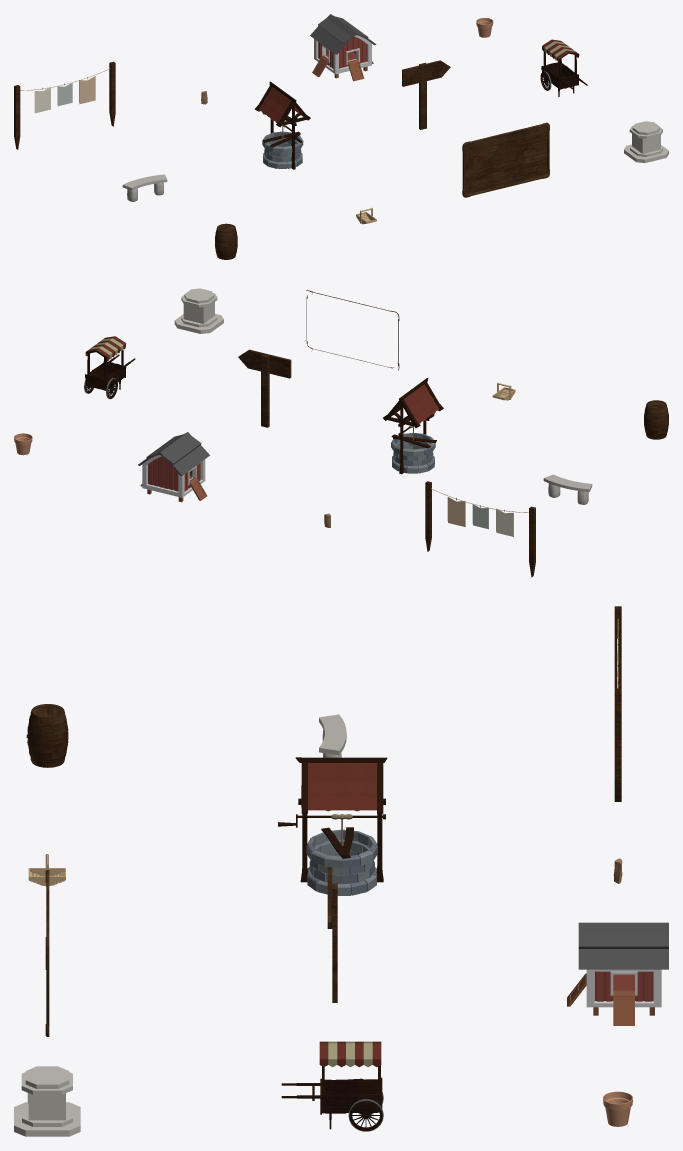
File: london_district_props.glb
3 views of the same model, one above another, from view 1: azimuth 30°, elevation 25°; view 2: azimuth 150°, elevation 25°; view 3: azimuth 270°, elevation 25° (orthographic). The views are drawn at different scales.
Visible parts, largest first — view 1: noticeboard, ChickenCoop_Cube.015, Well, Cart, statue_base, finger_post_sign_01, wood_barrel, curved_stone_bench, left timber post, right timber post, hanging linen 3; view 2: ChickenCoop_Cube.015, Well, Cart, statue_base, finger_post_sign_01, wood_barrel, curved_stone_bench, hanging linen 3, right timber post, left timber post; view 3: Well, ChickenCoop_Cube.015, Cart, statue_base, wood_barrel, finger_post_sign_01, curved_stone_bench, right timber post, flower_pot.
Part boxes in pixels (bbox=[...]): noticeboard: bbox=[462, 122, 549, 197]; ChickenCoop_Cube.015: bbox=[310, 14, 376, 81]; Well: bbox=[255, 81, 310, 169]; Cart: bbox=[540, 39, 587, 96]; statue_base: bbox=[624, 121, 668, 162]; finger_post_sign_01: bbox=[402, 60, 450, 129]; wood_barrel: bbox=[215, 223, 237, 259]; curved_stone_bench: bbox=[122, 174, 167, 201]; left timber post: bbox=[14, 85, 20, 149]; right timber post: bbox=[109, 61, 115, 126]; hanging linen 3: bbox=[79, 76, 95, 104]; ChickenCoop_Cube.015: bbox=[138, 432, 209, 502]; Well: bbox=[383, 378, 443, 474]; Cart: bbox=[84, 336, 135, 399]; statue_base: bbox=[174, 288, 223, 333]; finger_post_sign_01: bbox=[238, 349, 291, 427]; wood_barrel: bbox=[644, 400, 668, 439]; curved_stone_bench: bbox=[543, 474, 592, 504]; hanging linen 3: bbox=[447, 496, 465, 526]; right timber post: bbox=[425, 481, 431, 551]; left timber post: bbox=[529, 506, 535, 577]; Well: bbox=[278, 757, 387, 895]; ChickenCoop_Cube.015: bbox=[567, 922, 668, 1025]; Cart: bbox=[281, 1041, 383, 1131]; statue_base: bbox=[14, 1066, 80, 1136]; wood_barrel: bbox=[26, 704, 68, 767]; finger_post_sign_01: bbox=[327, 867, 337, 1002]; curved_stone_bench: bbox=[319, 714, 346, 757]; right timber post: bbox=[614, 688, 621, 801]; flower_pot: bbox=[603, 1091, 632, 1126].
Bounding box in the file's own units: 15.28 × 2.1 × 10.1.
29 materials, 8 textured.
